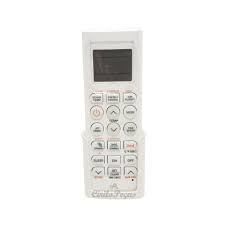remote control: (83, 35, 144, 198)
